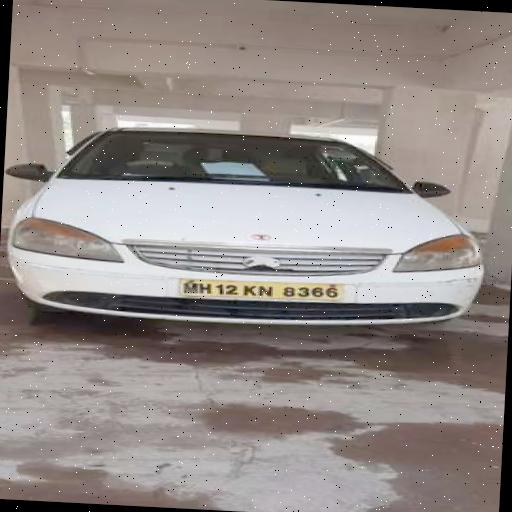license_plate`: (176, 274, 341, 304)
